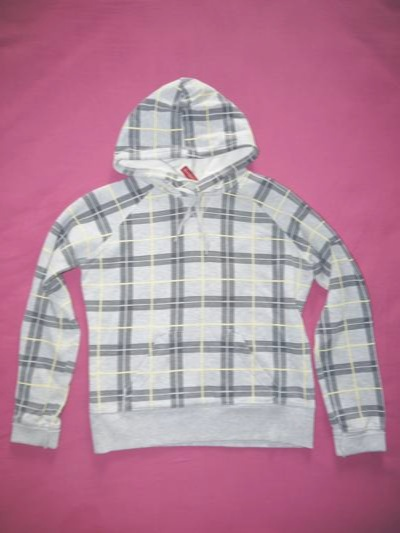Hoodie: (0, 79, 388, 482)
